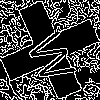W: (25, 25, 86, 87)
